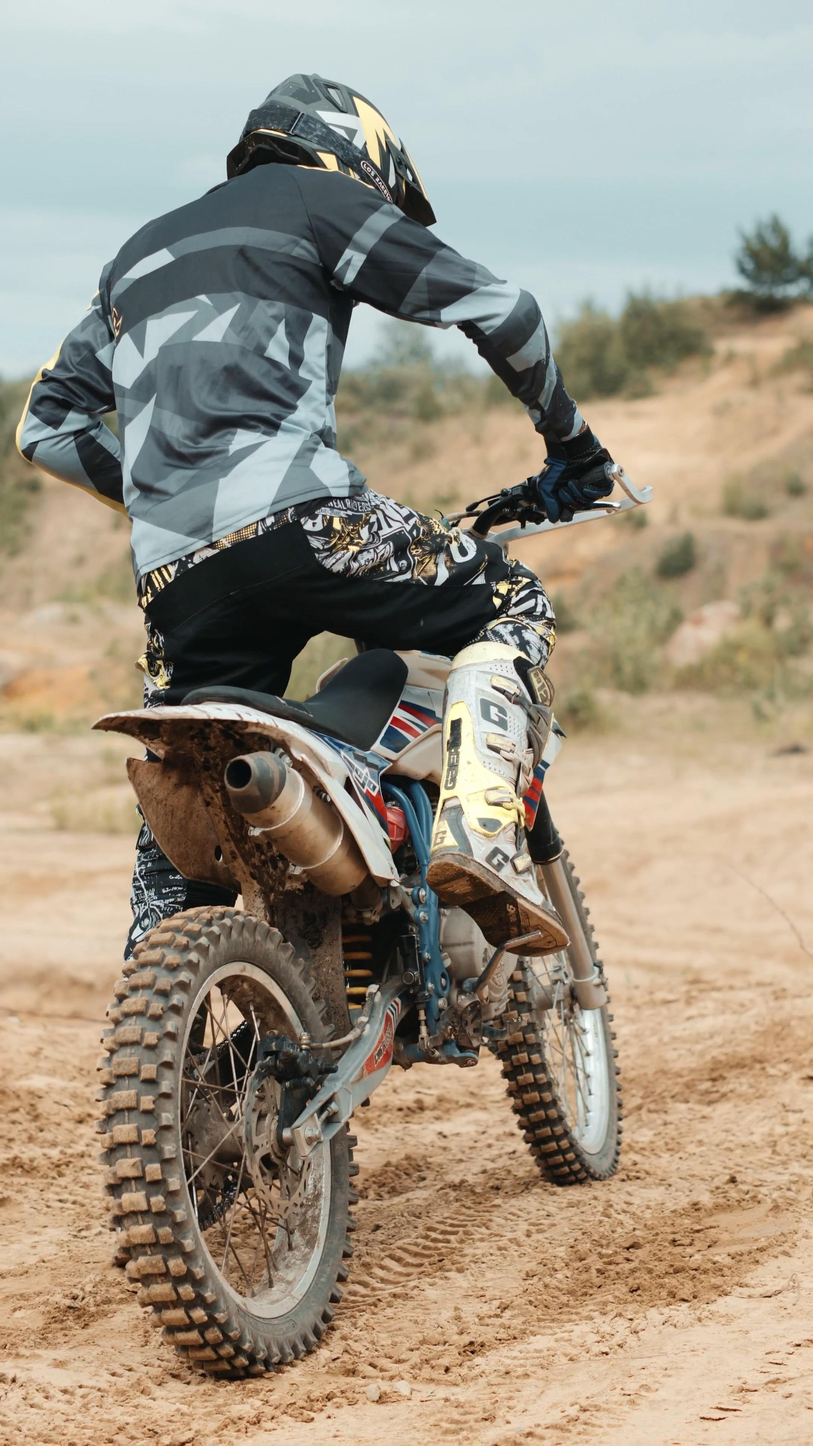driver: (14, 73, 654, 1379)
helmet: (225, 73, 436, 227)
